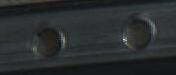joints: (29, 20, 66, 59), (120, 11, 156, 51)
